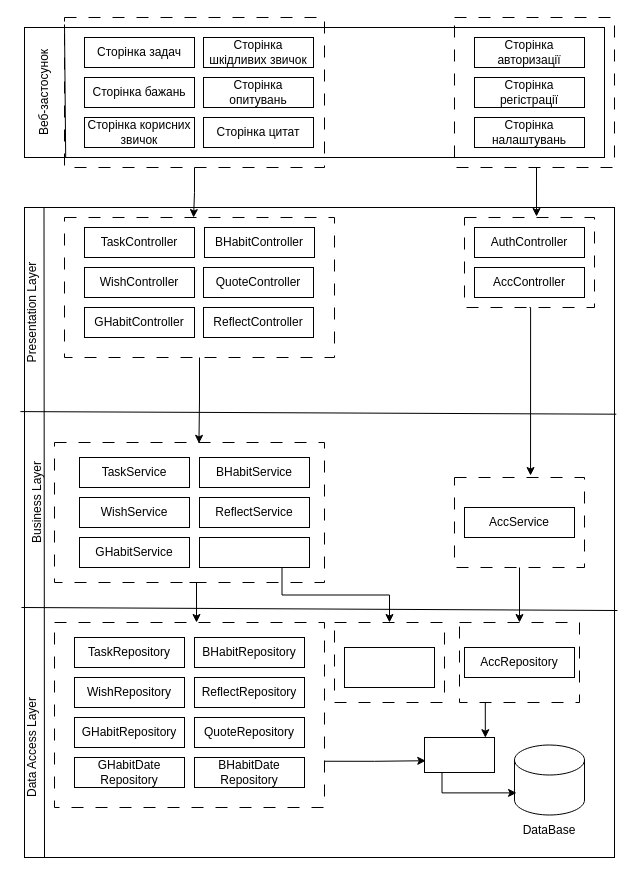
Image size: 636x876. Some labels were removed from this diagram. The centre of each missing label's shape, as x and y in pixels:
"DbContext" belongs at (459,754).
"QuotableClient" belongs at (389,667).
"QuoteService" belongs at (254,552).
